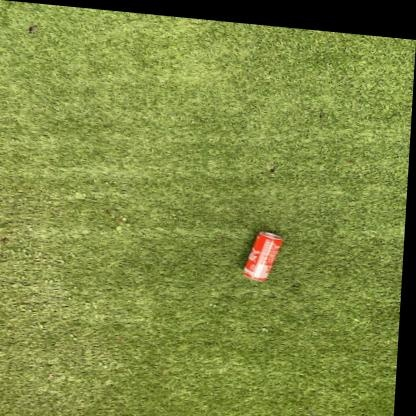trash: (243, 232, 282, 280)
